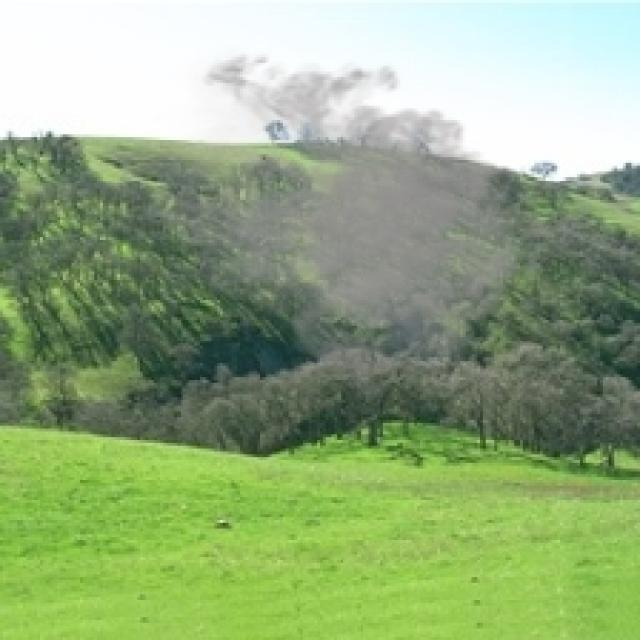smoke: (134, 43, 552, 400)
